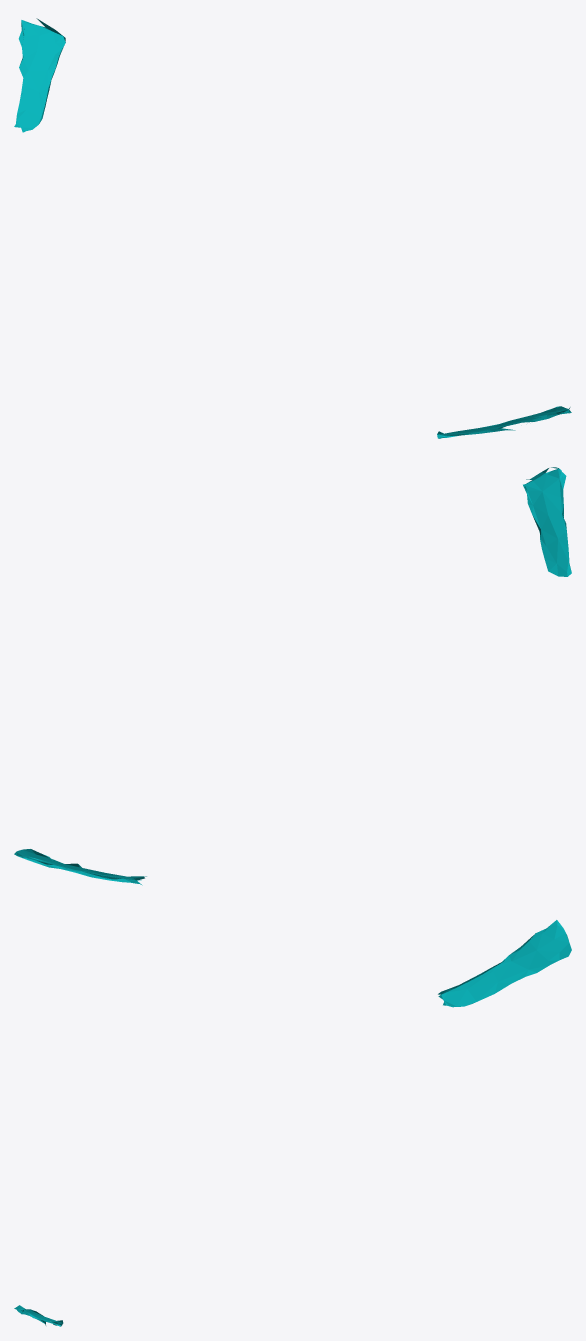
3 renders of one model, top to bottom at view 1: azimuth 30°, elevation 25°; view 2: azimuth 150°, elevation 25°; view 3: azimuth 330°, elevation 25°, orthographic.
Parts seen in each view (by area): view 1: 312782624.obj; view 2: 312782624.obj; view 3: 312782624.obj.
Boxes of the visible parts, x1,y1,x2,y2 form: 312782624.obj: [14, 18, 571, 438]; 312782624.obj: [14, 467, 571, 885]; 312782624.obj: [14, 920, 571, 1326].
Bounding box in the file's own units: 631 × 423 × 6378.
